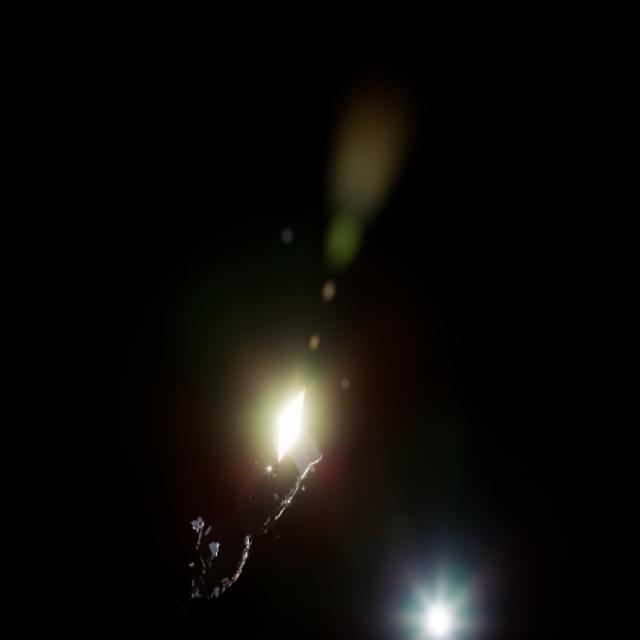Satellites revolving around earth: (181, 375, 329, 611)
